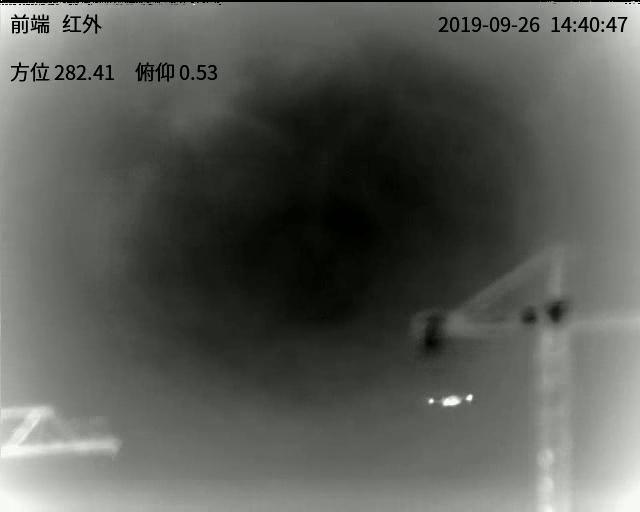DRONE: (426, 391, 474, 410)
